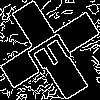E: (25, 25, 82, 77)
